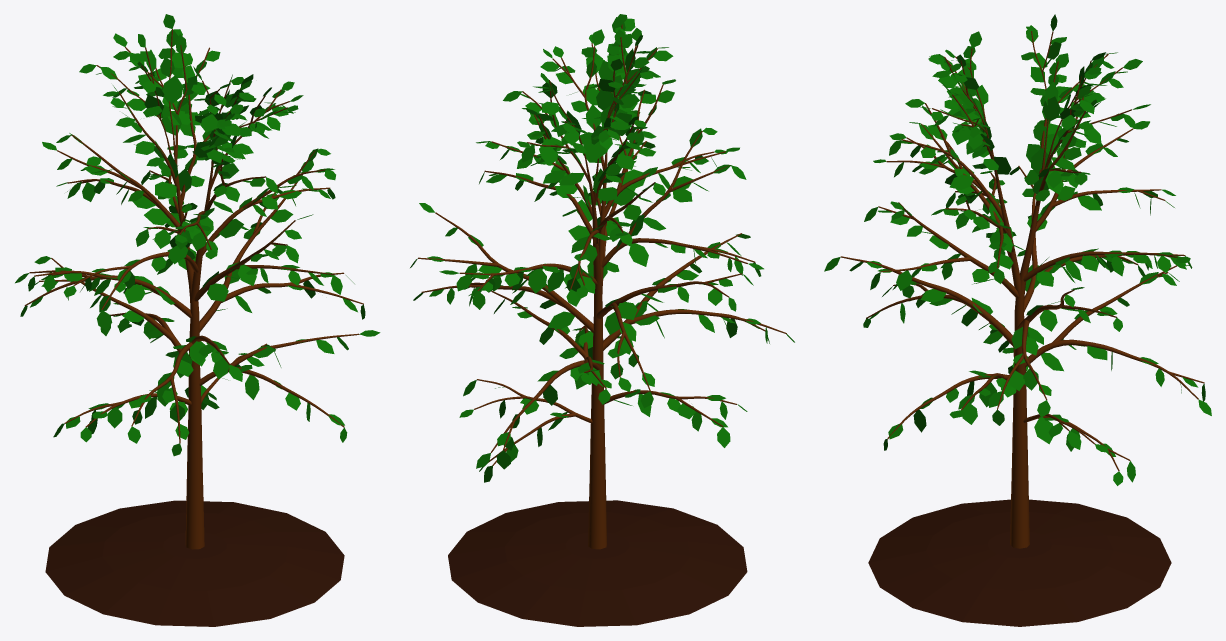
File: TreeStage3.glb
3 views of the same model, side by side, from view 1: azimuth 30°, elevation 25°; view 2: azimuth 150°, elevation 25°; view 3: azimuth 270°, elevation 25° (orthographic).
Parts seen in each view (by area): view 1: leaves.004, Cone, tree.001; view 2: leaves.004, Cone, tree.001; view 3: leaves.004, Cone, tree.001.
Boxes of the visible parts, left/top/right/bottom form: leaves.004: left=15, top=14, right=380, bottom=456; Cone: left=45, top=500, right=344, bottom=626; tree.001: left=24, top=29, right=363, bottom=549; leaves.004: left=410, top=14, right=794, bottom=482; Cone: left=448, top=500, right=747, bottom=626; tree.001: left=418, top=24, right=786, bottom=549; leaves.004: left=824, top=14, right=1211, bottom=485; Cone: left=868, top=499, right=1171, bottom=626; tree.001: left=840, top=31, right=1204, bottom=548.
Bounding box in the file's own units: 1.16 × 1.8 × 1.2.
